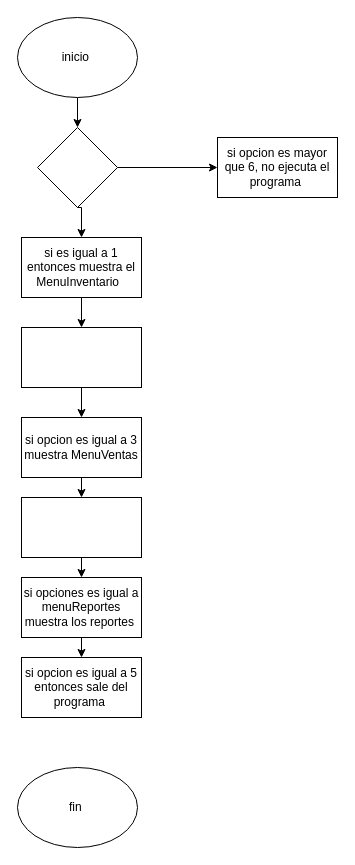
Some shapes in this 355 by 865 pixel diagram are drawn without their labels. Here are the shapes that lost their labels. From the top down, the centre of each, then its label:
point 77,167: da opciones del 1 al 5
point 81,357: si opcion es igual a 2 muestra el MenuClientes
point 81,527: si opcion es igual a 4 muestra MenuReportes
